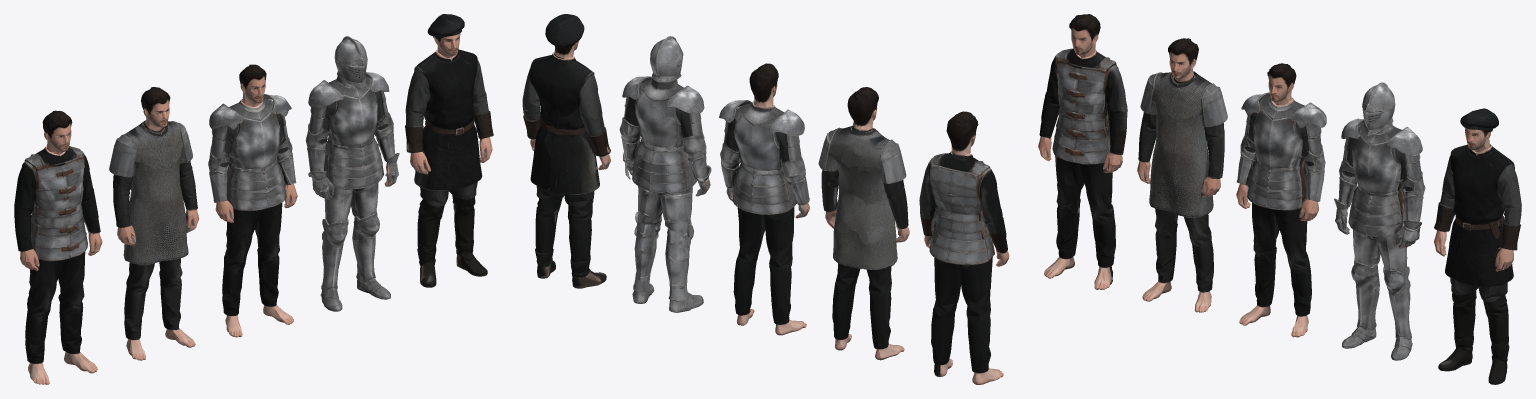
File: characters.glb
3 renders of one model, left to right at view 1: azimuth 30°, elevation 25°; view 2: azimuth 150°, elevation 25°; view 3: azimuth 330°, elevation 25°, orthographic.
Bounding box in the file's own units: 1.9 × 1.01 × 0.2064.
Materials: 1 (1 with a texture image).
